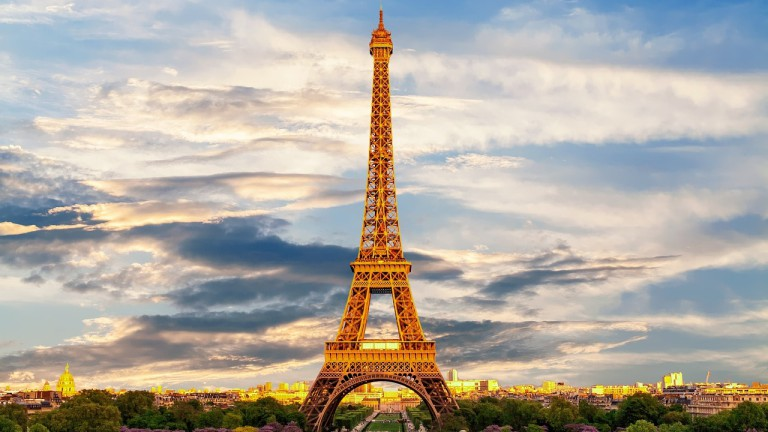eiffel tower: (295, 7, 479, 427)
